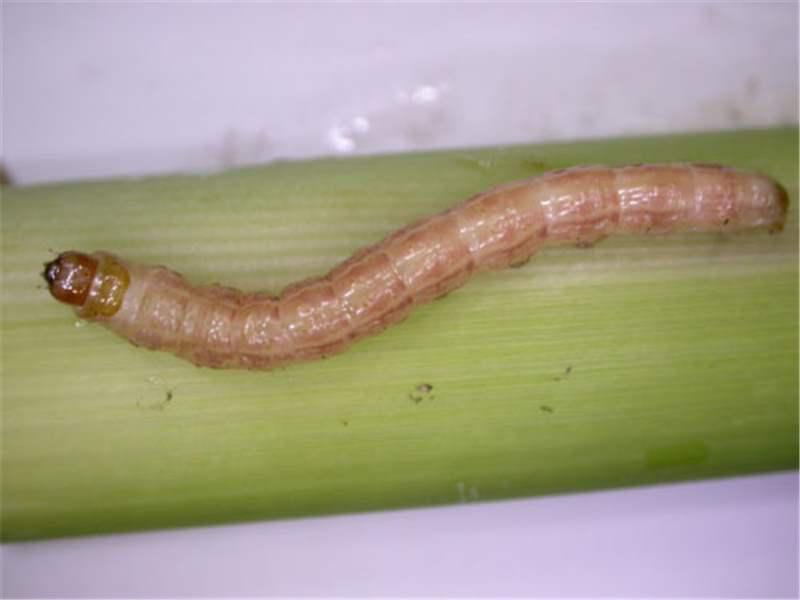Rice_horned_caterpillar: (28, 160, 794, 379)
